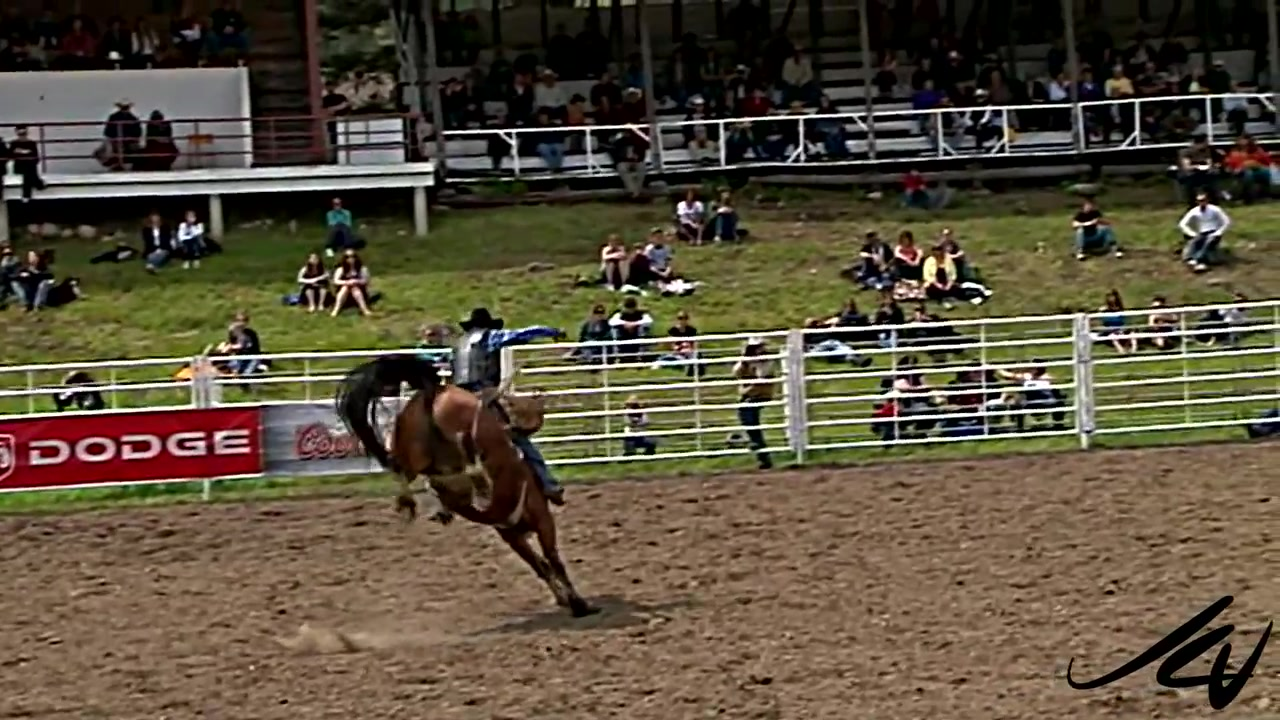horse: (337, 353, 597, 620)
